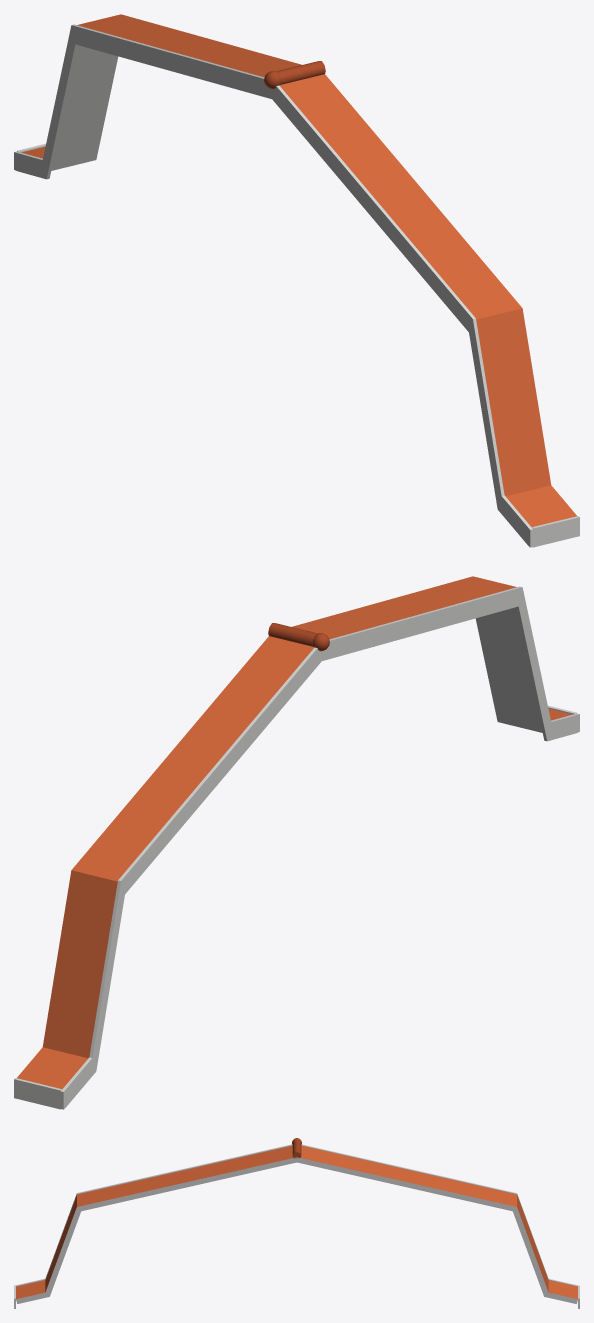
File: telhado_mansarda_empena_v8.glb
3 renders of one model, top to bottom at view 1: azimuth 30°, elevation 25°; view 2: azimuth 150°, elevation 25°; view 3: azimuth 270°, elevation 25°, orthographic. The views are drawn at different scales.
Visible parts, largest first — view 1: telhado_mansarda_empena_v8; view 2: telhado_mansarda_empena_v8; view 3: telhado_mansarda_empena_v8.
Part boxes in pixels (bbox=[...]): telhado_mansarda_empena_v8: bbox=[14, 14, 579, 547]; telhado_mansarda_empena_v8: bbox=[14, 576, 579, 1109]; telhado_mansarda_empena_v8: bbox=[14, 1138, 579, 1308].
Bounding box in the file's own units: 0.57 × 2.76 × 9.
